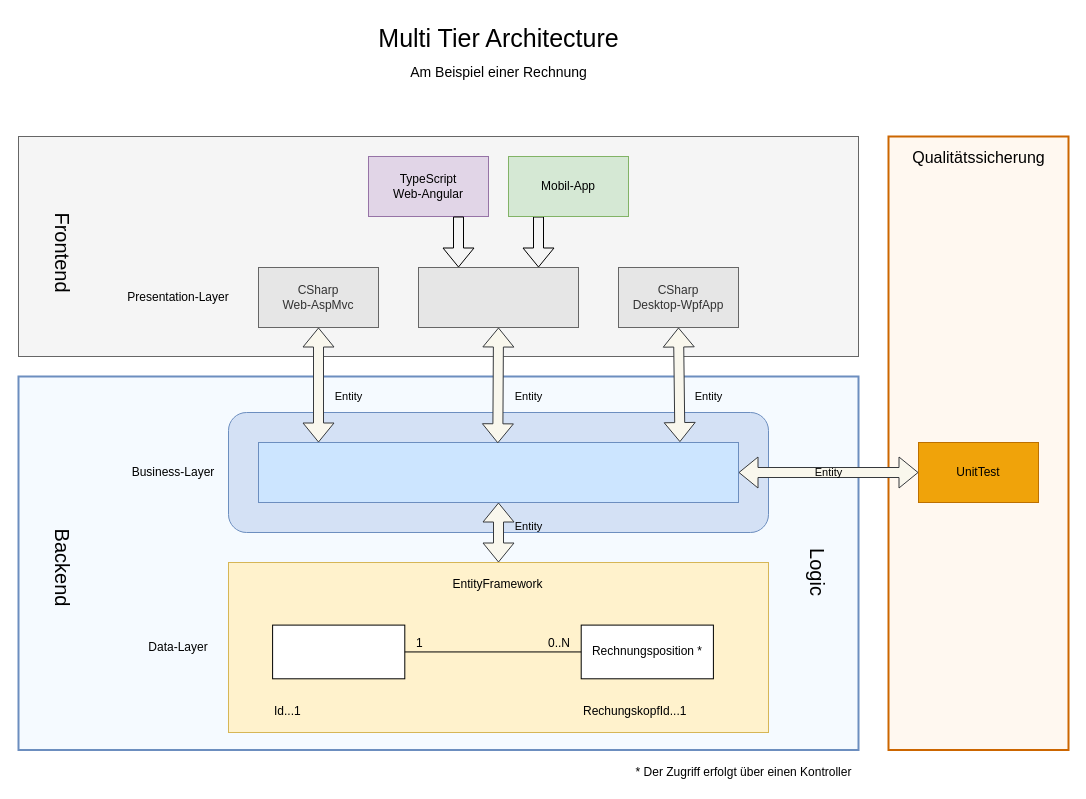
Some shapes in this 1086 by 799 pixel diagram are drawn without their labels. Here are the shapes that lost their labels. From the top down, the centre of each, then its label:
At pixel 498 297: "CSharp RESTful-WebApi".
At pixel 498 472: "Rechnung*".
At pixel 338 651: "Rechnungskopf *".
